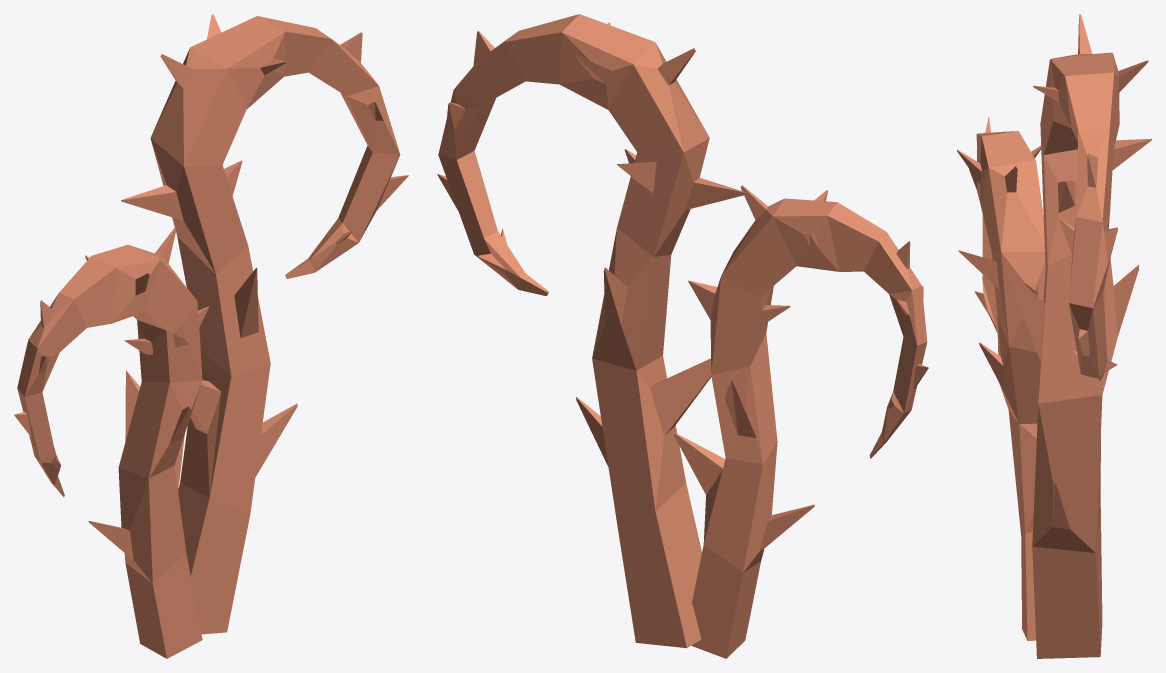
Rendered from Kolec.fbx.
The picture shows the model from 3 angles, left to right: view 1: azimuth 30°, elevation 25°; view 2: azimuth 150°, elevation 25°; view 3: azimuth 270°, elevation 25°; orthographic projection. The views are drawn at different scales.
Parts seen in each view (by area): view 1: Cube.008, Cube.012, Cube.011, Cube.009, Cube.010; view 2: Cube.008, Cube.012, Cube.011, Cube.009, Cube.010; view 3: Cube.008, Cube.011, Cube.012, Cube.010, Cube.009.
Part boxes in pixels (x1,y1,x2,y2): Cube.008: (121, 14, 330, 376); Cube.012: (88, 302, 209, 658); Cube.011: (178, 351, 297, 634); Cube.009: (14, 228, 197, 497); Cube.010: (285, 32, 408, 278); Cube.008: (505, 14, 748, 370); Cube.012: (674, 276, 814, 658); Cube.011: (576, 355, 711, 648); Cube.009: (721, 185, 928, 458); Cube.010: (437, 30, 548, 295); Cube.008: (1003, 14, 1151, 403); Cube.011: (1032, 355, 1102, 658); Cube.012: (958, 250, 1045, 640); Cube.010: (1059, 129, 1117, 381); Cube.009: (957, 117, 1044, 332).
Bounding box in the file's own units: 0.2065 × 0.5718 × 0.7335.
